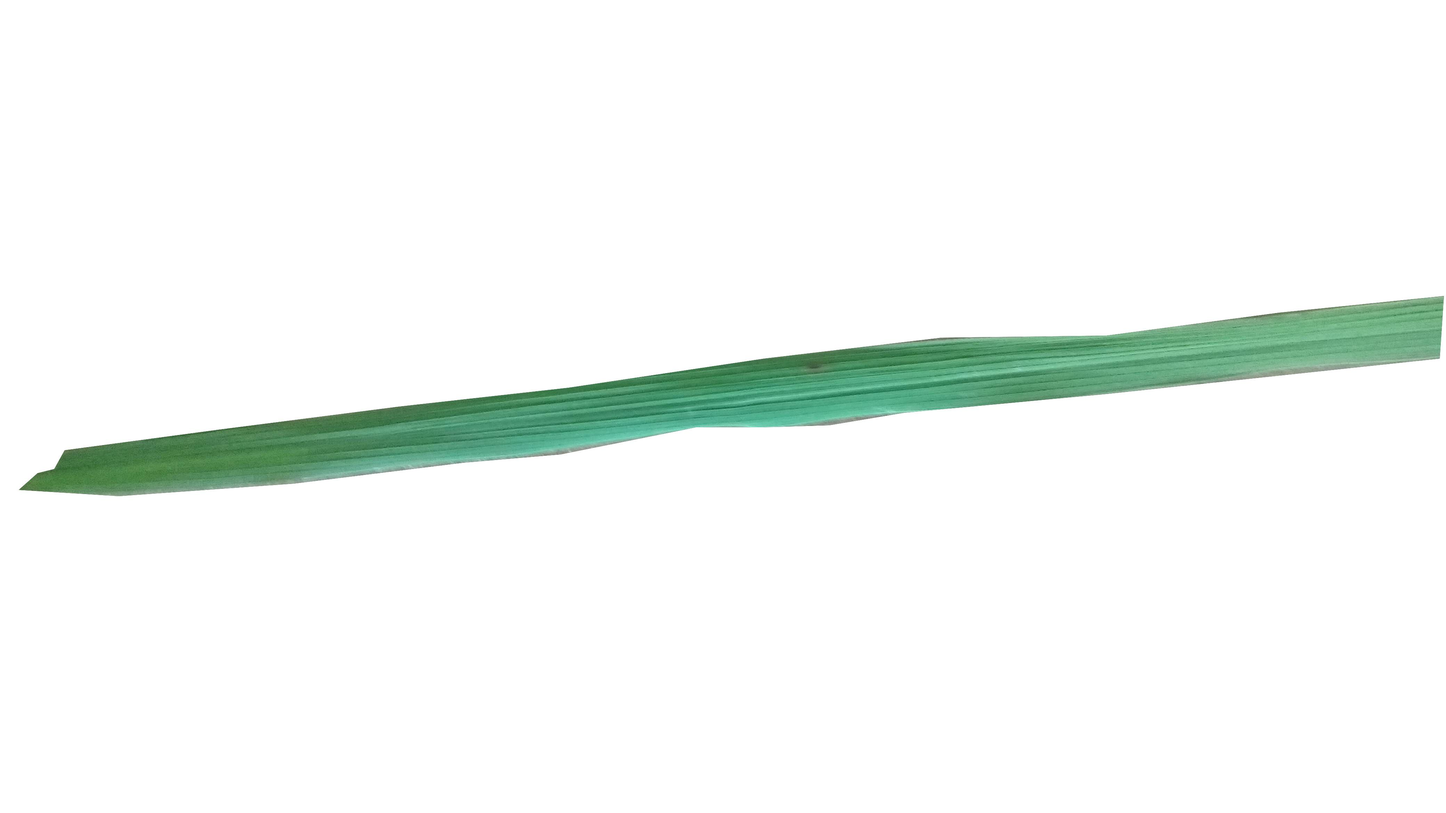Brown spot: (805, 359, 825, 375)
